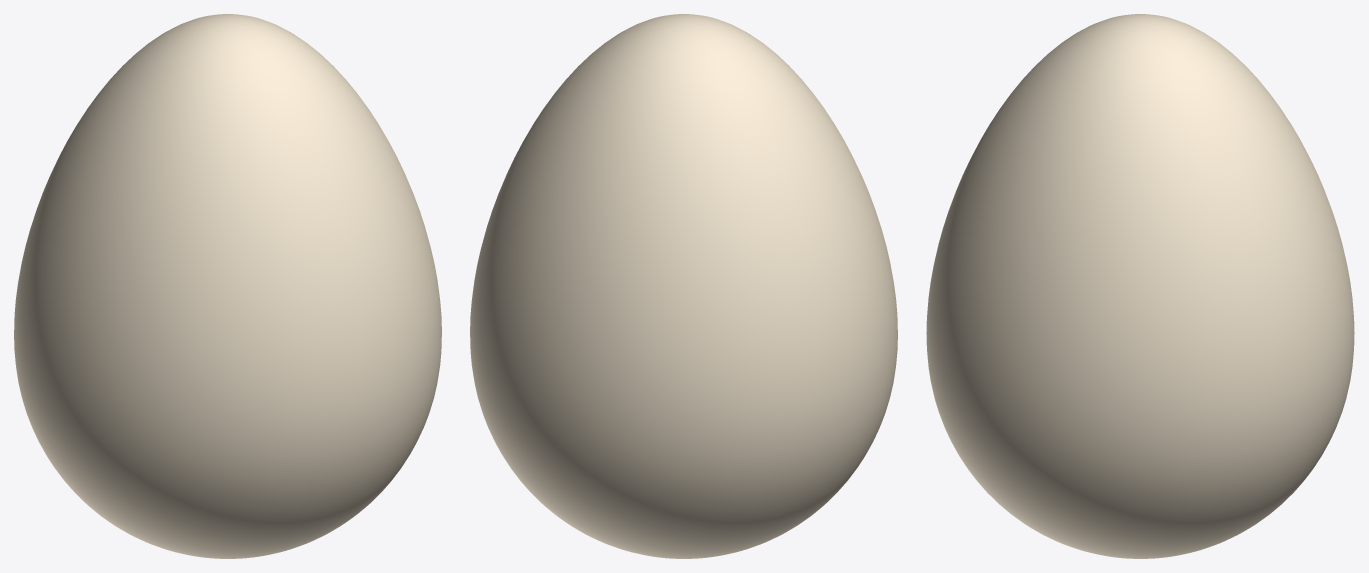
3 renders of one model, left to right at view 1: azimuth 30°, elevation 25°; view 2: azimuth 150°, elevation 25°; view 3: azimuth 270°, elevation 25°, orthographic.
Parts seen in each view (by area): view 1: Outside; view 2: Outside; view 3: Outside.
Boxes of the visible parts, bbox=[...] form: Outside: bbox=[14, 14, 441, 558]; Outside: bbox=[470, 14, 897, 558]; Outside: bbox=[926, 14, 1354, 558].
Bounding box in the file's own units: 200 × 266 × 200.
